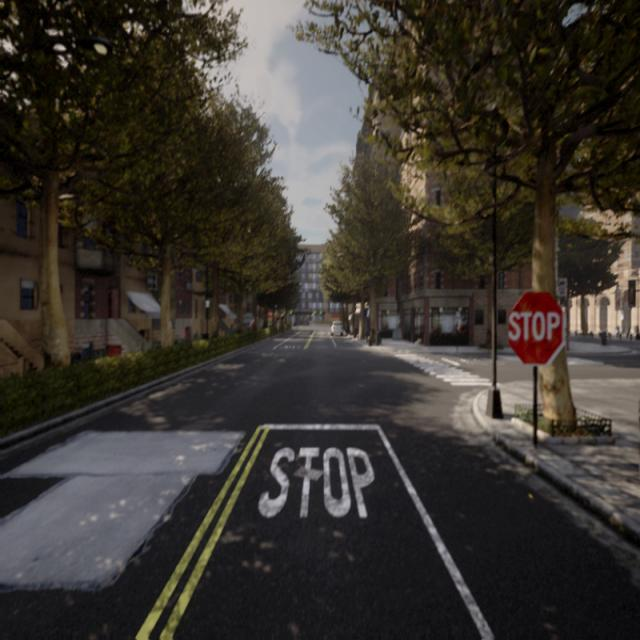stop sign: (504, 287, 567, 368), (508, 308, 562, 344)
